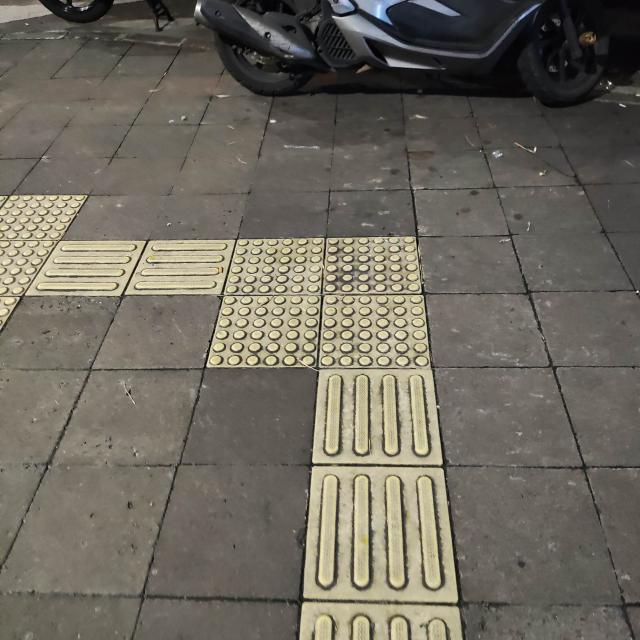kiri: (90, 192, 488, 462)
